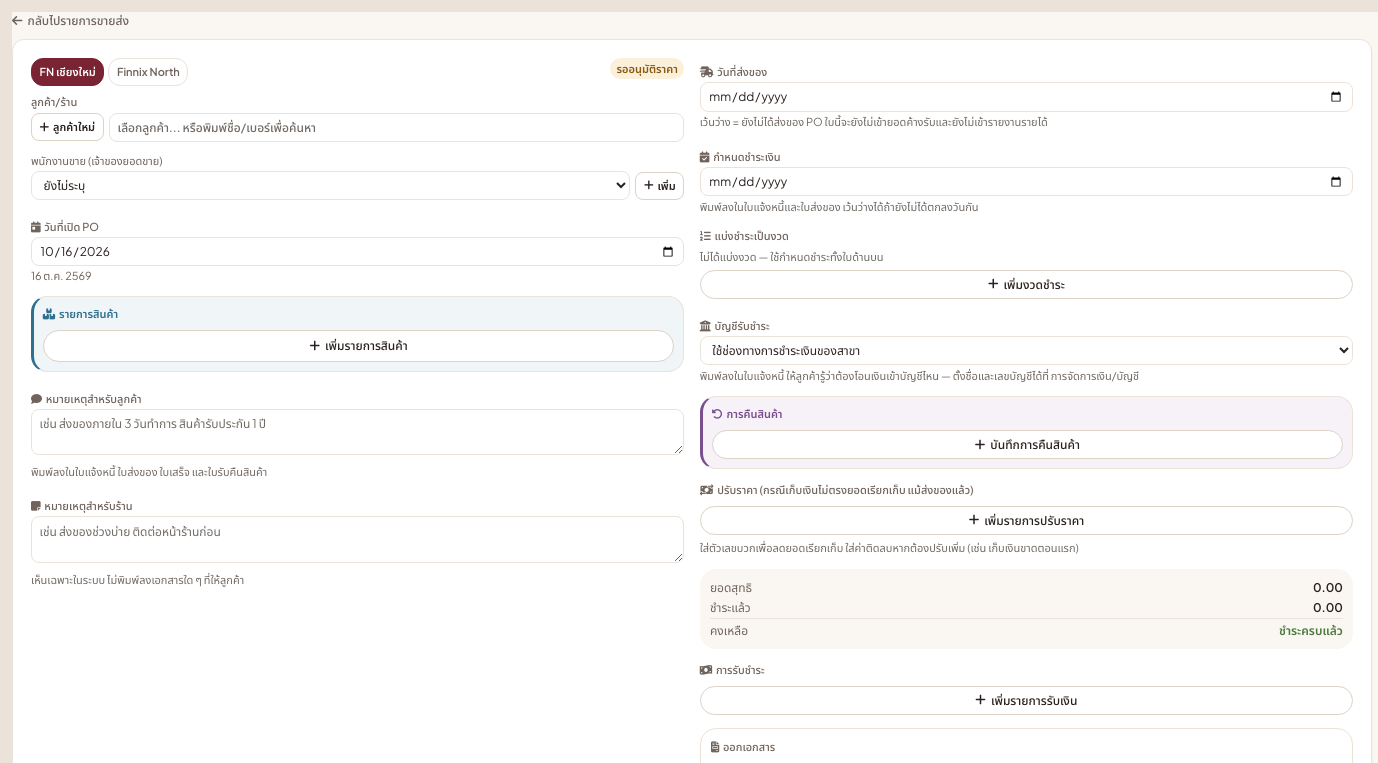
Test case: WholesaleDetail — สาขา และ ถังขยะ › ค้นหาสินค้าด้วยการพิมพ์ ทั้งชื่อเต็มและชื่อย่อ
Click the button "เพิ่มรายการสินค้า" at [359, 346], box [43, 330, 674, 362]
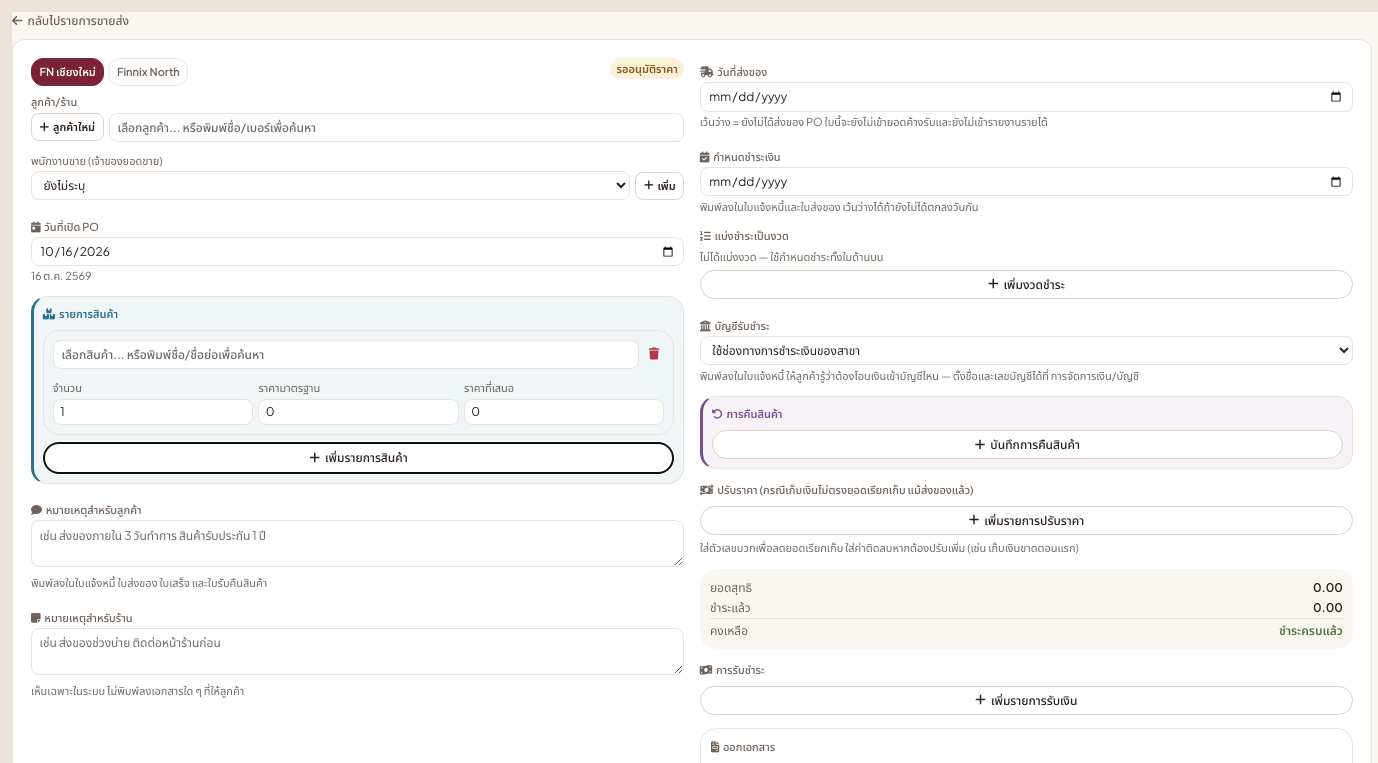
Type "CT40" into the dropdown named "สินค้าในรายการ" at [346, 355], box [53, 340, 639, 369]
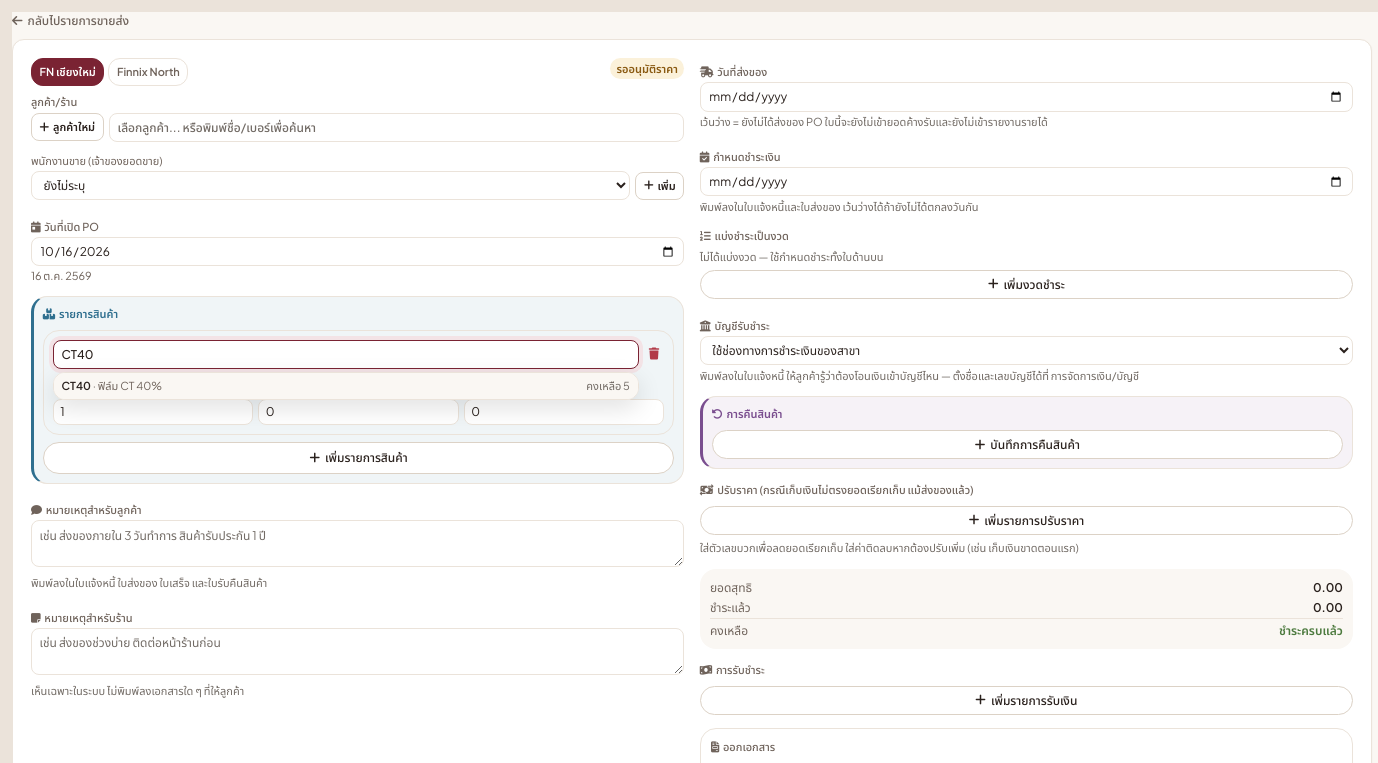
Expected: the text "ฟิล์ม CT 40%" is shown
Click the text "ฟิล์ม CT 40%" at [130, 386], box [98, 379, 162, 392]
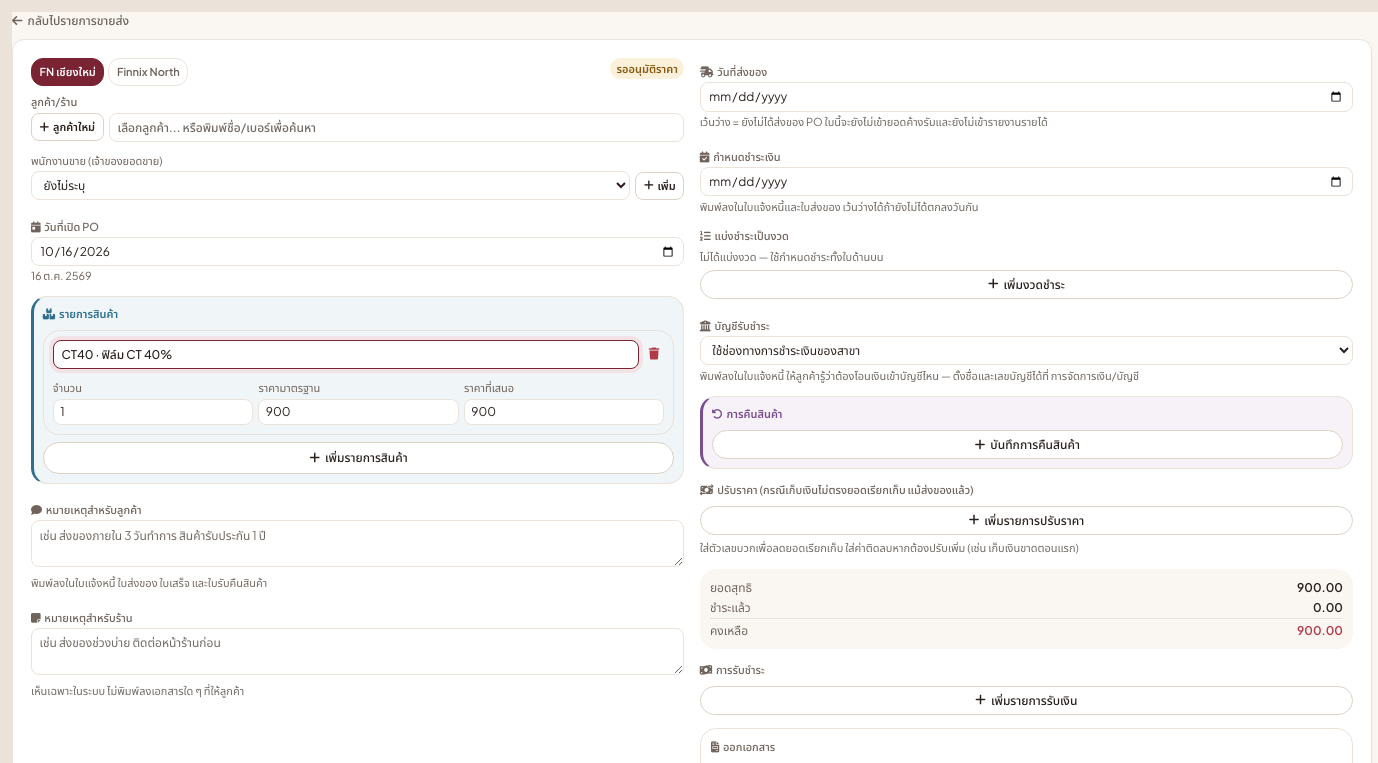
Expected: the number of number fields showing "900" is 2, [258, 399, 459, 425]; [464, 399, 664, 425]
Expected: the dropdown named "สินค้าในรายการ" holds "CT40 · ฟิล์ม CT 40%", [53, 340, 639, 369]
